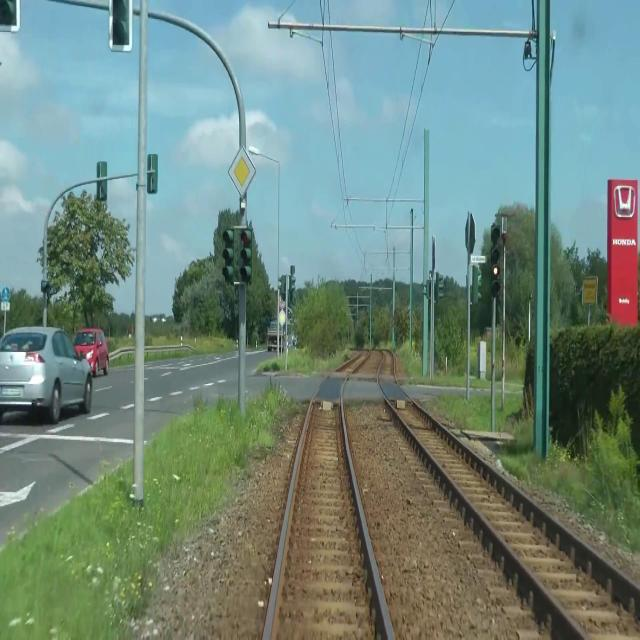rail-track: (379, 352, 640, 639)
